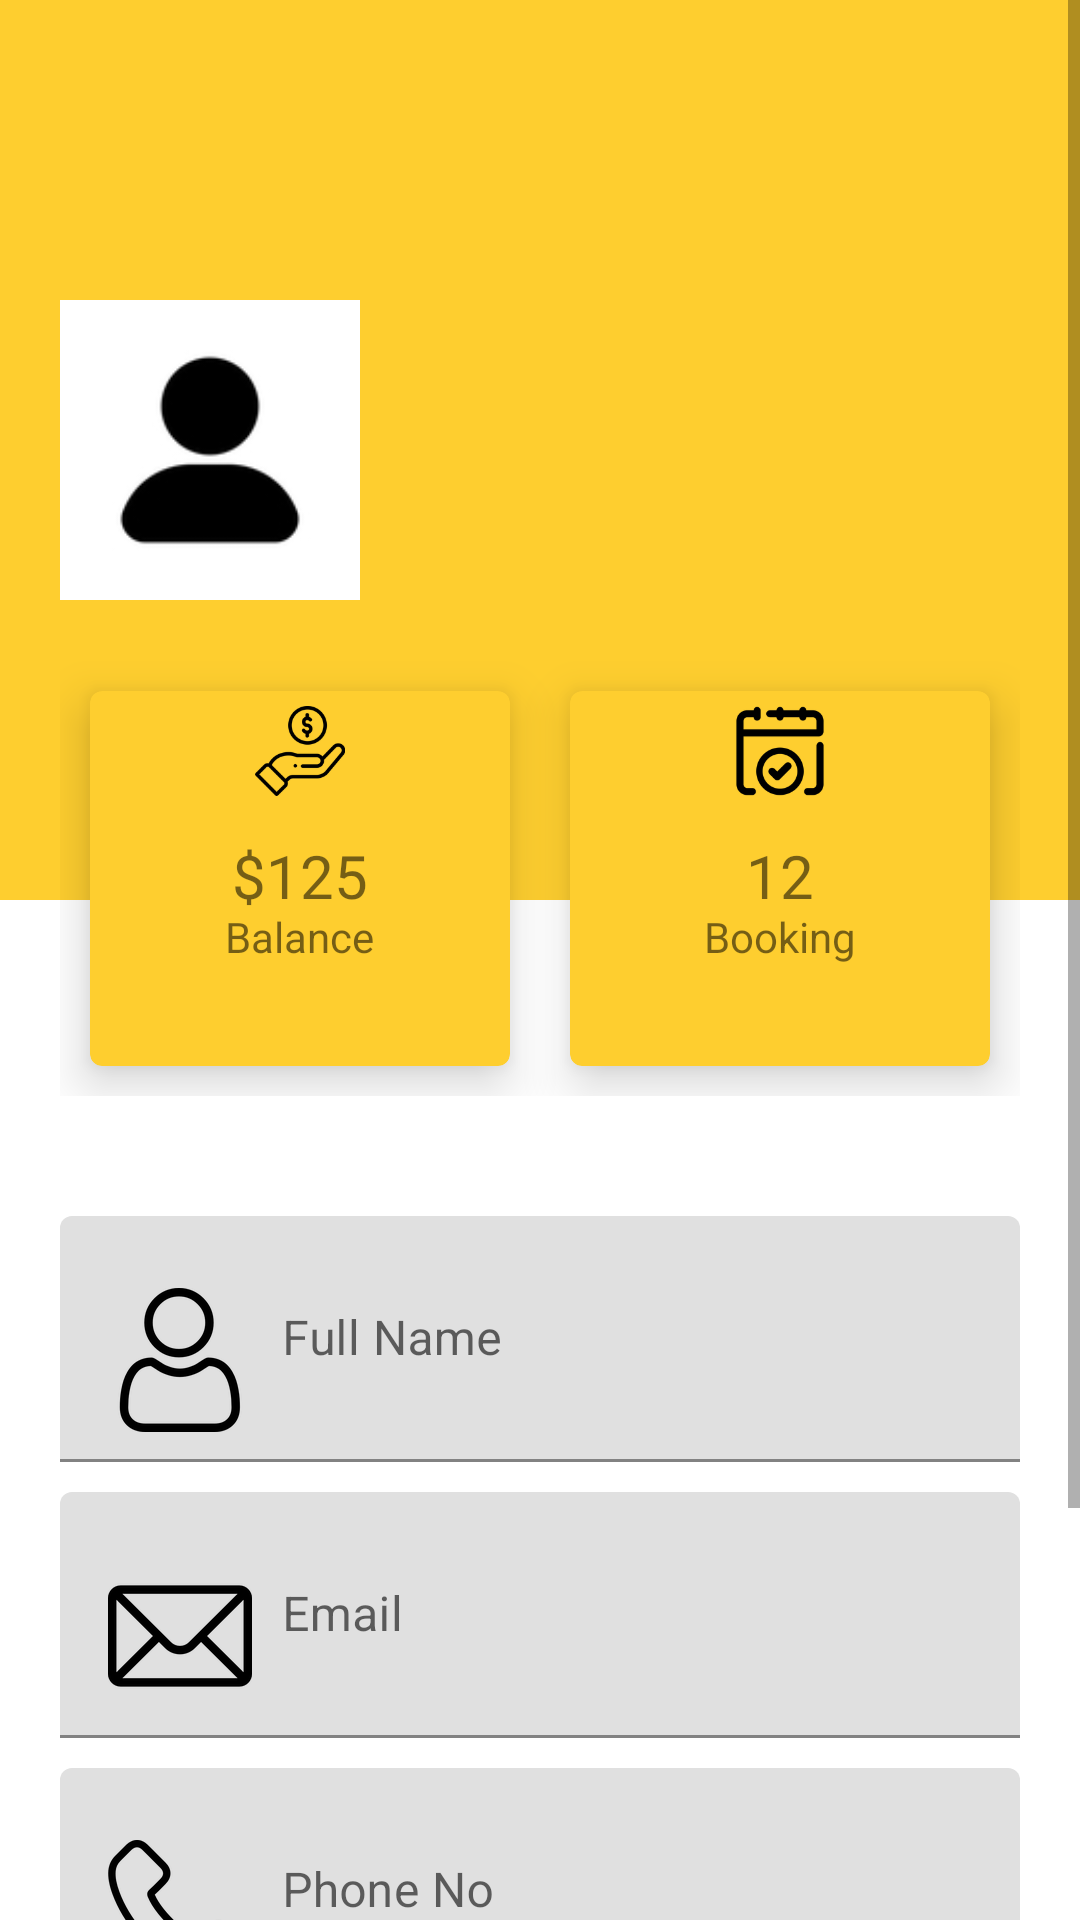

Named icons in this screenshot (1080px×1920px) and their bounding boxes, (x1, y1, x2, y2):
payment: (255, 706, 345, 796)
profile pic: (60, 300, 360, 600)
